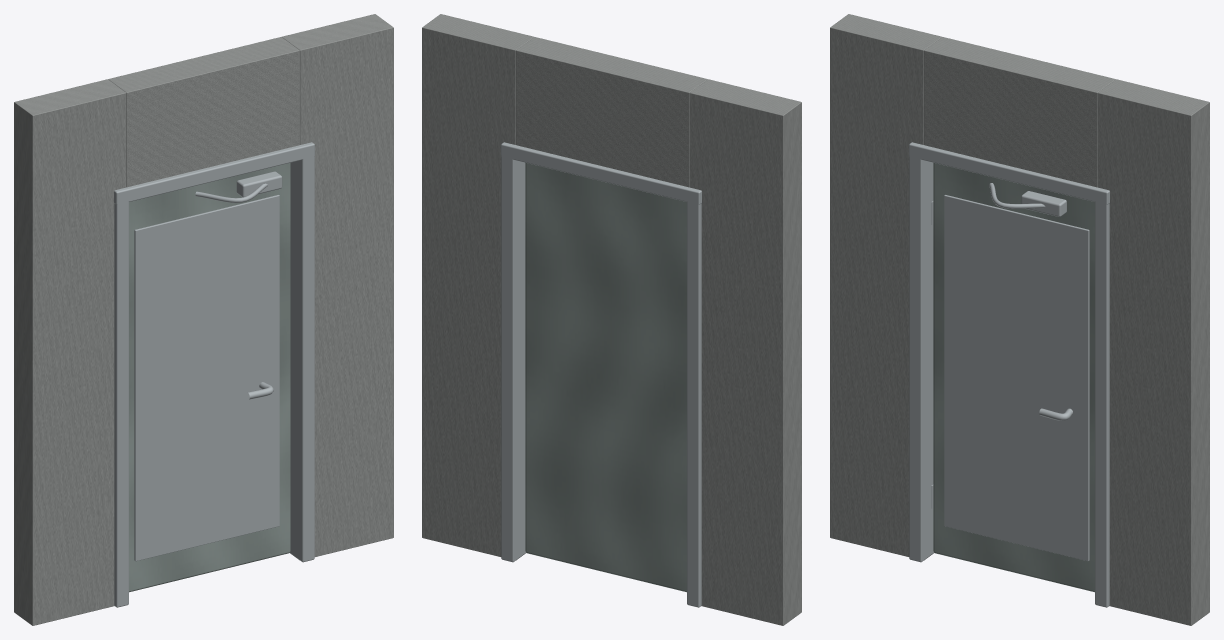
Rendered from liminal-spaces-kit-fire-door-b6641fb3__25292.glb.
3 views of the same model, side by side, from view 1: azimuth 30°, elevation 25°; view 2: azimuth 150°, elevation 25°; view 3: azimuth 330°, elevation 25° (orthographic).
Visible parts, largest first — view 1: fire-door, door (×2); view 2: fire-door, door; view 3: fire-door, door (×2).
Part boxes in pixels (x1,y1,x2,y2): fire-door: (14,14,393,625); door (×2): (129,163,290,592); fire-door: (422,14,801,625); door: (525,162,686,592); fire-door: (830,14,1209,625); door (×2): (933,163,1094,592).
Size of the model in its own units: 2 by 2.7 by 0.3965.
3 materials, 2 textured.
